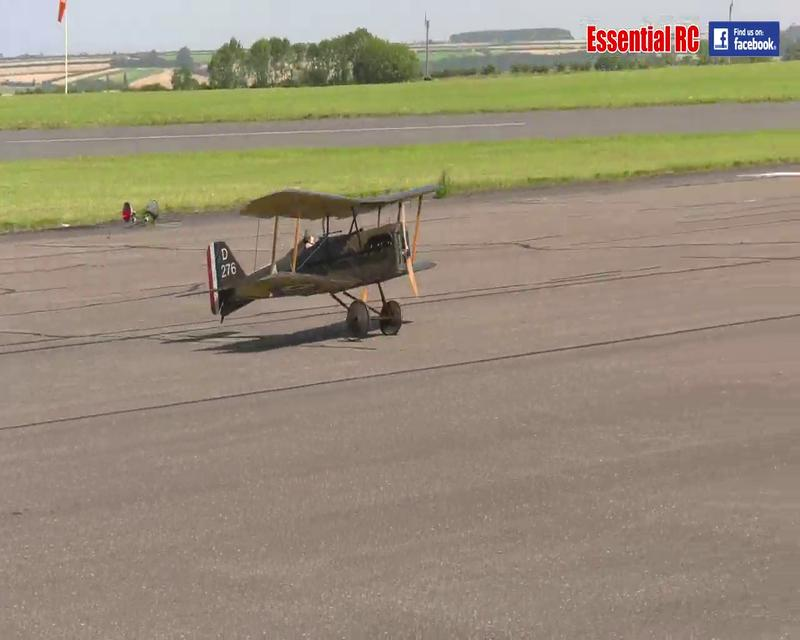UAV: (204, 183, 442, 339), (586, 23, 700, 53)
